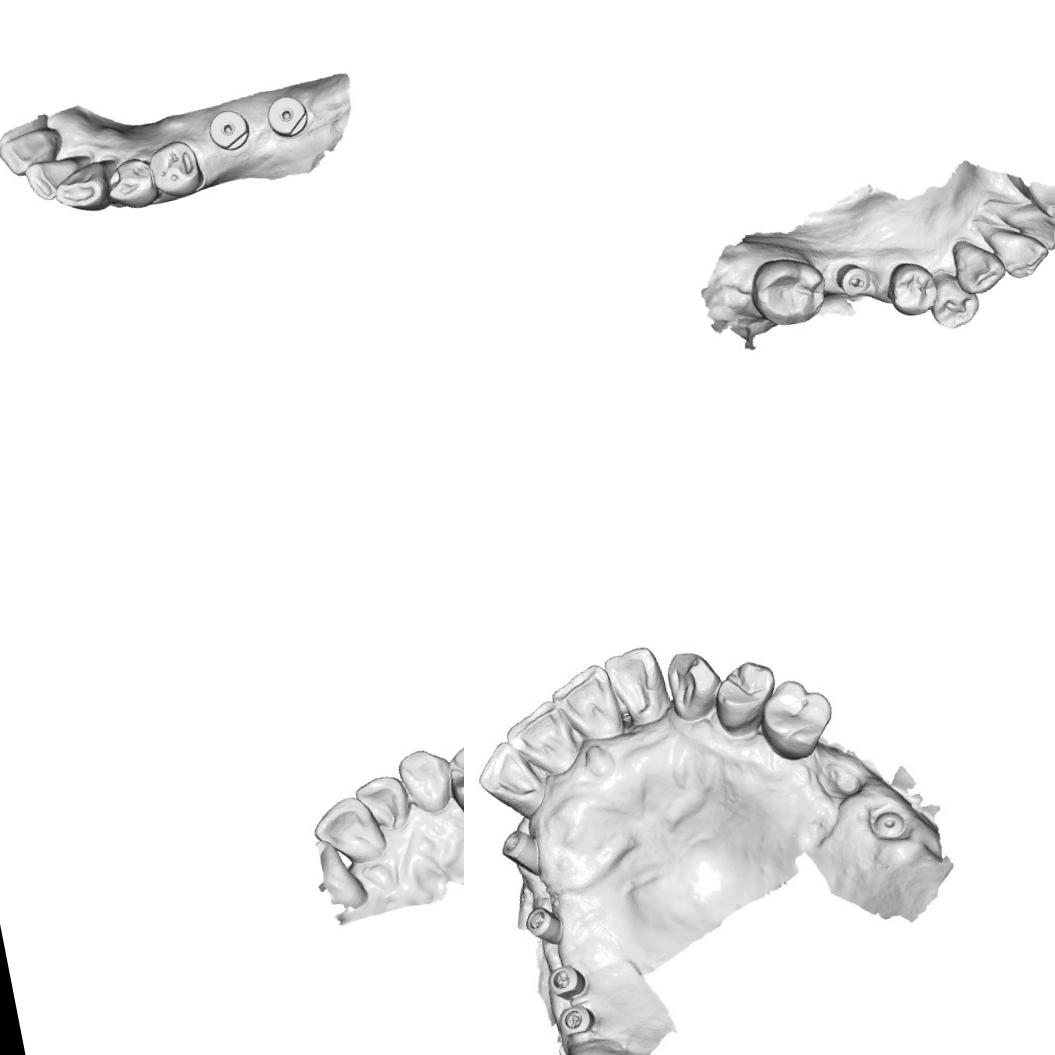canine: (390, 738, 464, 820), (659, 642, 723, 723), (945, 229, 1011, 300), (46, 160, 120, 220)
implant: (198, 103, 254, 157), (262, 88, 314, 140), (498, 825, 542, 870), (524, 904, 564, 947), (545, 960, 587, 1000), (870, 804, 910, 842), (556, 1001, 597, 1038)
implant_minus: (832, 259, 874, 302)
incisor: (306, 788, 390, 872), (551, 662, 629, 745), (504, 700, 582, 778), (474, 739, 541, 816), (604, 645, 666, 725), (982, 216, 1054, 284), (350, 768, 416, 838), (19, 150, 96, 205), (0, 121, 67, 179), (998, 196, 1055, 259)
molar: (742, 249, 834, 334)
premolar: (751, 673, 842, 768), (706, 654, 780, 728), (880, 253, 943, 322), (143, 135, 206, 202), (922, 264, 980, 334), (100, 148, 160, 215), (440, 735, 464, 828)
